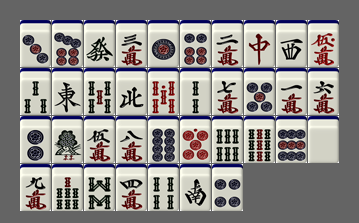0m: (308, 20, 339, 67)
0p: (180, 116, 211, 163)
0s: (148, 68, 179, 115)
1m: (276, 68, 307, 115)
1p: (148, 20, 179, 67)
1s: (52, 116, 83, 163)
1z: (52, 68, 83, 115)
2m: (212, 20, 243, 67)
2p: (20, 116, 51, 163)
2s: (180, 68, 211, 115)
2z: (180, 164, 211, 211)
3m: (116, 20, 147, 67)
3p: (20, 20, 51, 67)
3s: (20, 68, 51, 115)
3z: (276, 20, 307, 67)
4m: (116, 164, 147, 211)
4p: (212, 164, 243, 211)
4s: (148, 164, 179, 211)
4z: (116, 68, 147, 115)
5m: (84, 116, 115, 163)
5p: (244, 68, 275, 115)
5s: (84, 68, 115, 115)
5z: (308, 116, 339, 163)
6m: (308, 68, 339, 115)
6p: (180, 20, 211, 67)
6s: (212, 116, 243, 163)
6z: (84, 20, 115, 67)
7m: (212, 68, 243, 115)
7p: (52, 20, 83, 67)
7s: (52, 164, 83, 211)
7z: (244, 20, 275, 67)
8m: (116, 116, 147, 163)
8p: (148, 116, 179, 163)
8s: (84, 164, 115, 211)
9m: (20, 164, 51, 211)
9p: (276, 116, 307, 163)
9s: (244, 116, 275, 163)
